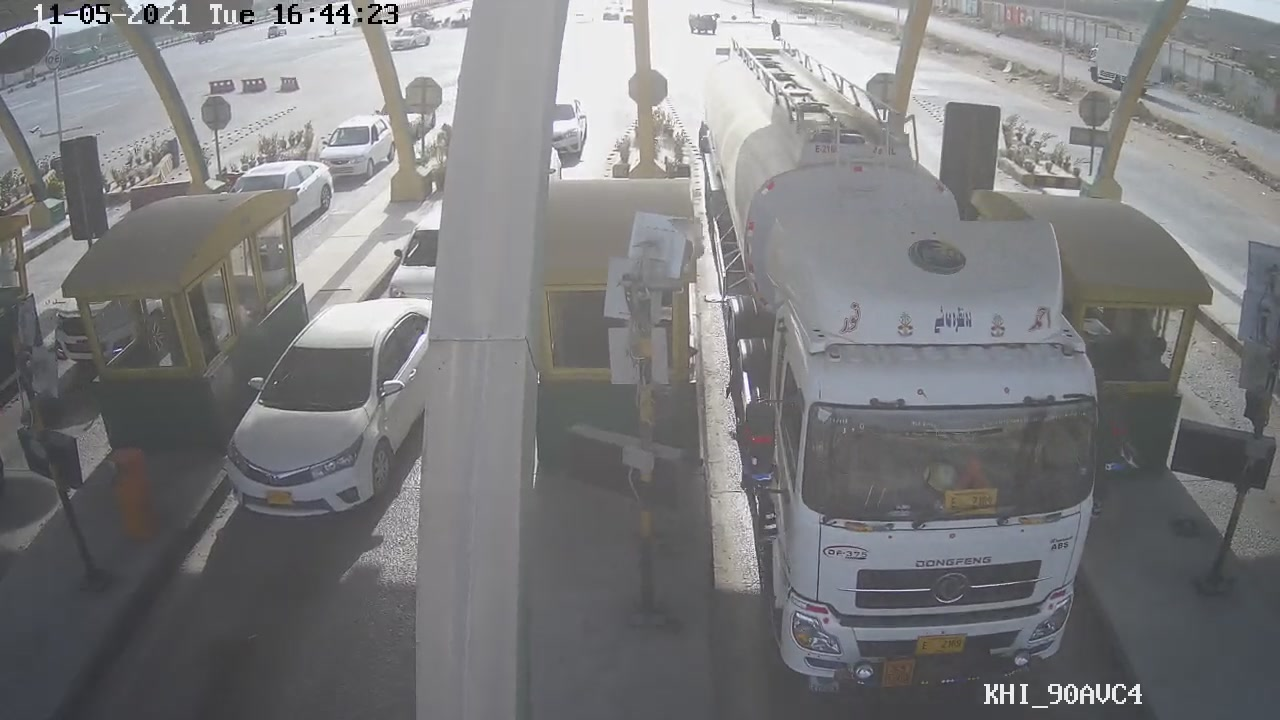F6: (694, 49, 1139, 716)
